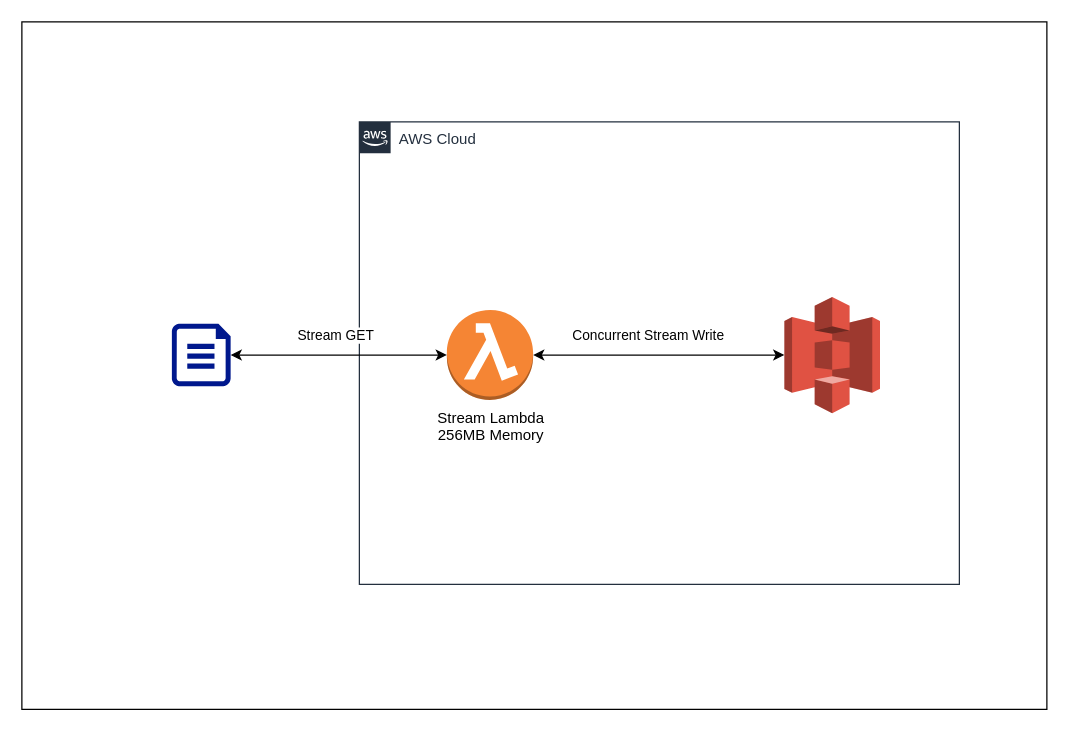
Some shapes in this 1069 by 731 pixel diagram are drawn without their labels. The shapes that lost their labels are listed below. From the top down, each one's centre as x and y in pixels, then its label:
At point 200,354: "External file larger than 256MB".
At point 831,354: "Uploads Bucket".
